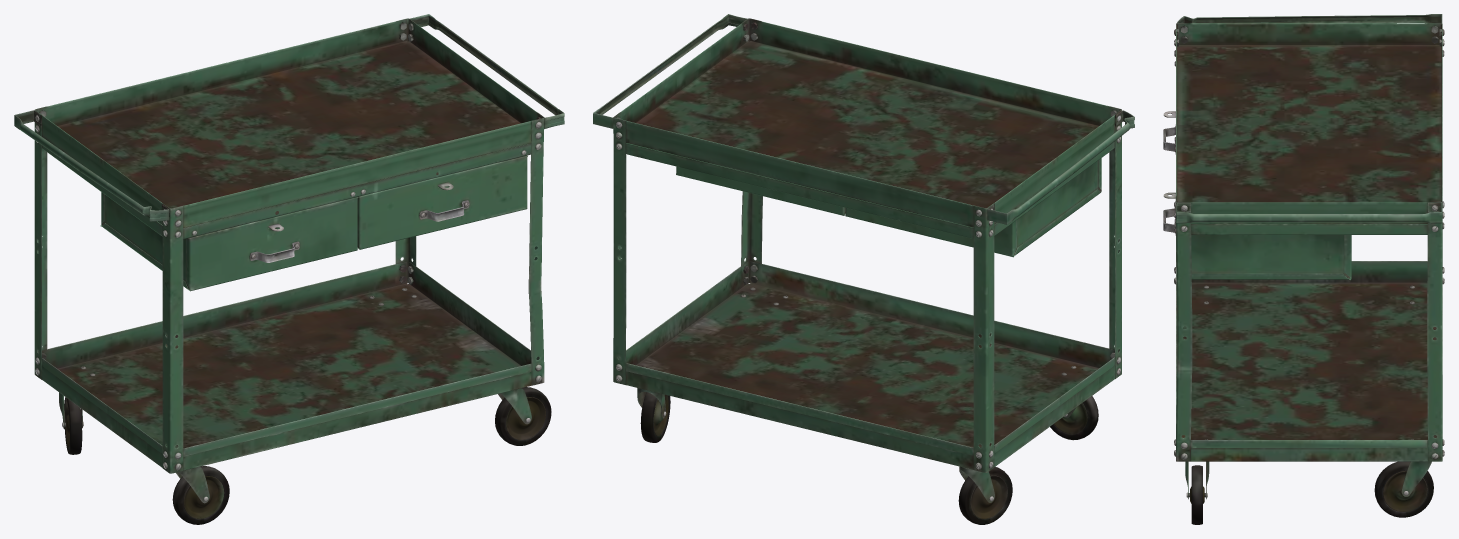
The model's file is gereedschapkar.glb.
The picture shows the model from 3 angles, left to right: view 1: azimuth 30°, elevation 25°; view 2: azimuth 150°, elevation 25°; view 3: azimuth 270°, elevation 25°; orthographic projection. The views are drawn at different scales.
Parts seen in each view (by area): view 1: tool_cart; view 2: tool_cart; view 3: tool_cart.
Part boxes in pixels (left/top/right/bottom): tool_cart: left=14, top=14, right=564, bottom=524; tool_cart: left=593, top=14, right=1134, bottom=524; tool_cart: left=1163, top=14, right=1444, bottom=524.
Bounding box in the file's own units: 1.27 × 0.9647 × 0.7537.
Materials: 1 (1 with a texture image).
